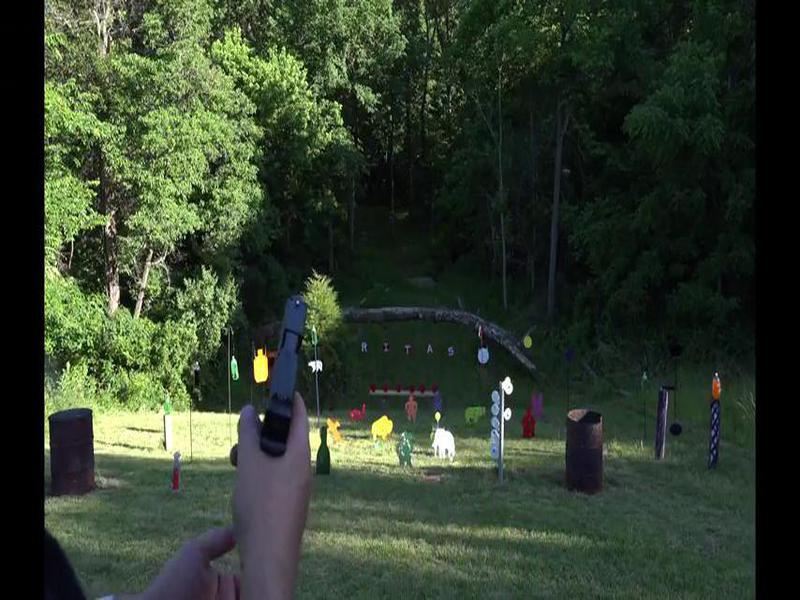Pistola: (263, 273, 322, 462)
